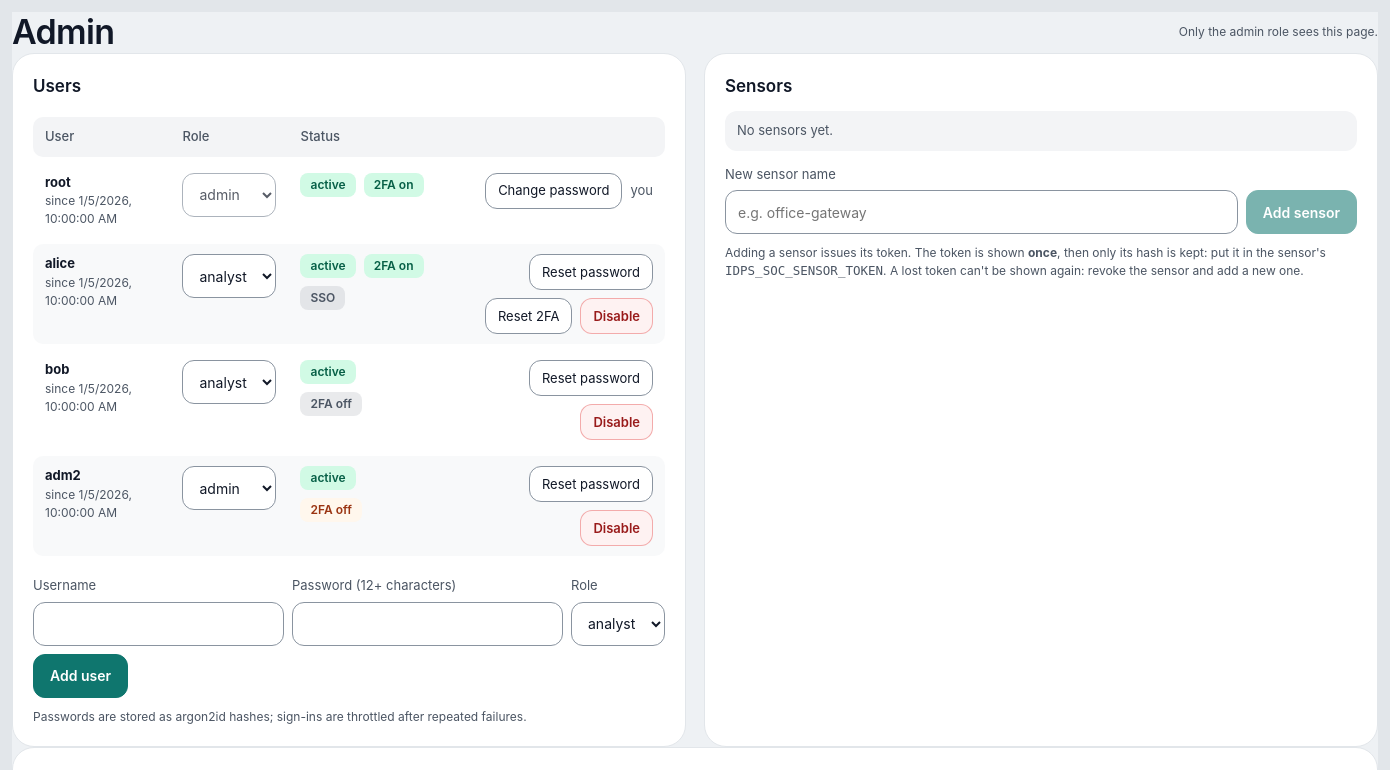
Scenario: Admin users 2FA › posts the reset and shows a notice when confirmed
expect the text "alice" is shown: met, box 45,255 -> 75,271
Click the button with aria-label "Reset two-factor sign-in of alice" at (529, 316), box 485,298 -> 572,334
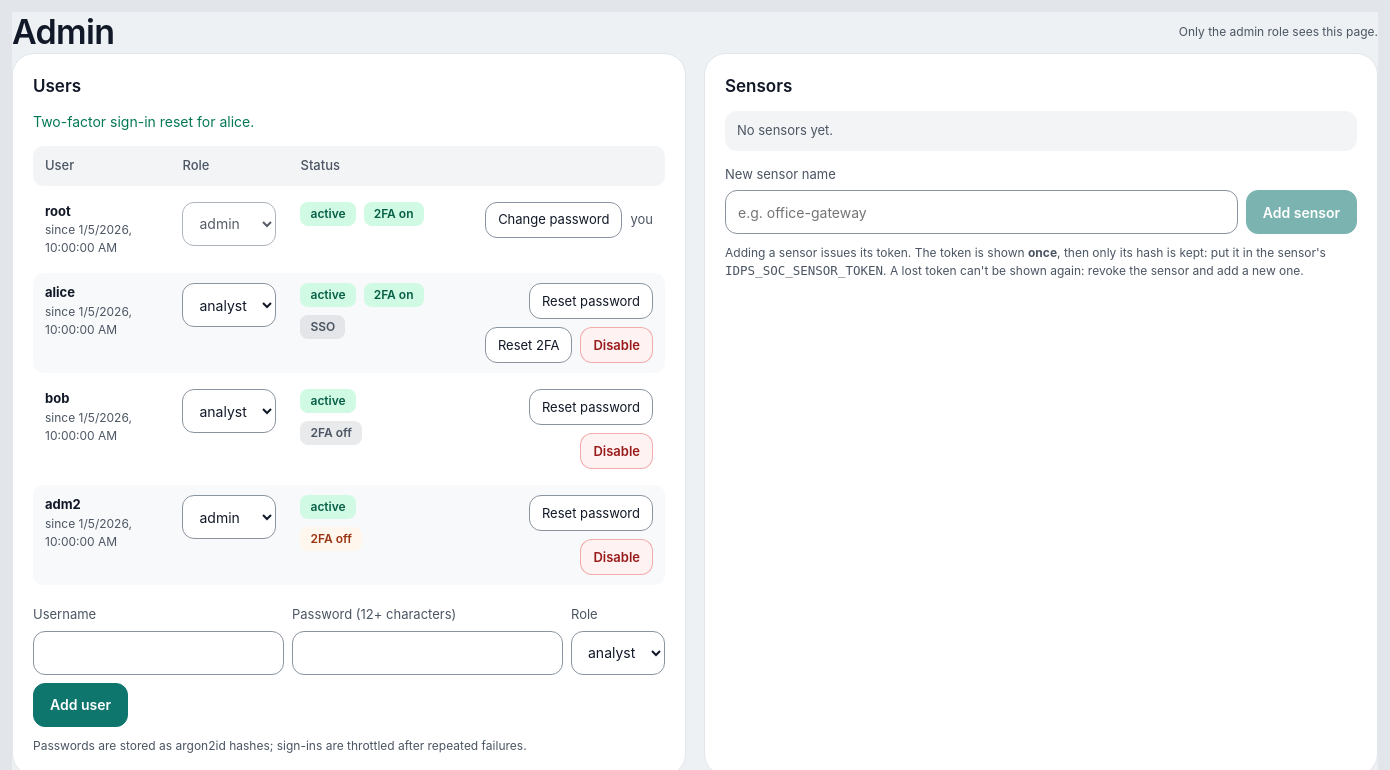
expect the text "Two-factor sign-in reset for alice." is shown: met, box 33,113 -> 254,130
